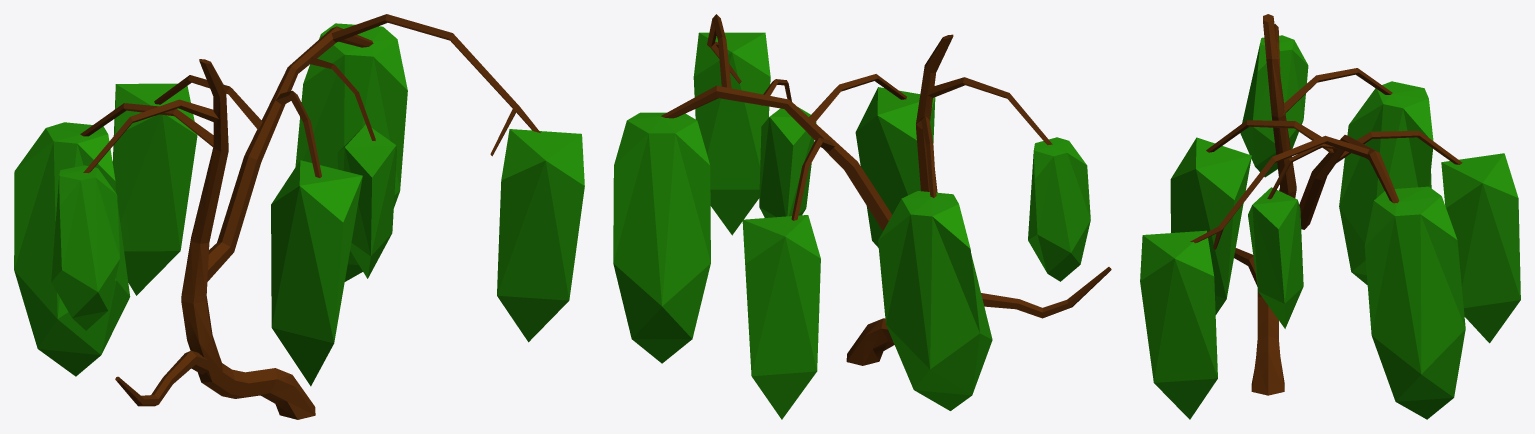
The model's file is Tree_temp_climate_015.FBX.
3 views of the same model, side by side, from view 1: azimuth 30°, elevation 25°; view 2: azimuth 150°, elevation 25°; view 3: azimuth 270°, elevation 25° (orthographic). The views are drawn at different scales.
Parts seen in each view (by area): view 1: Tree_temp_climate_015; view 2: Tree_temp_climate_015; view 3: Tree_temp_climate_015.
Boxes of the visible parts, bbox=[...] form: Tree_temp_climate_015: bbox=[14, 14, 584, 419]; Tree_temp_climate_015: bbox=[613, 14, 1111, 419]; Tree_temp_climate_015: bbox=[1140, 14, 1520, 419].
Bounding box in the file's own units: 695 × 524 × 546.
